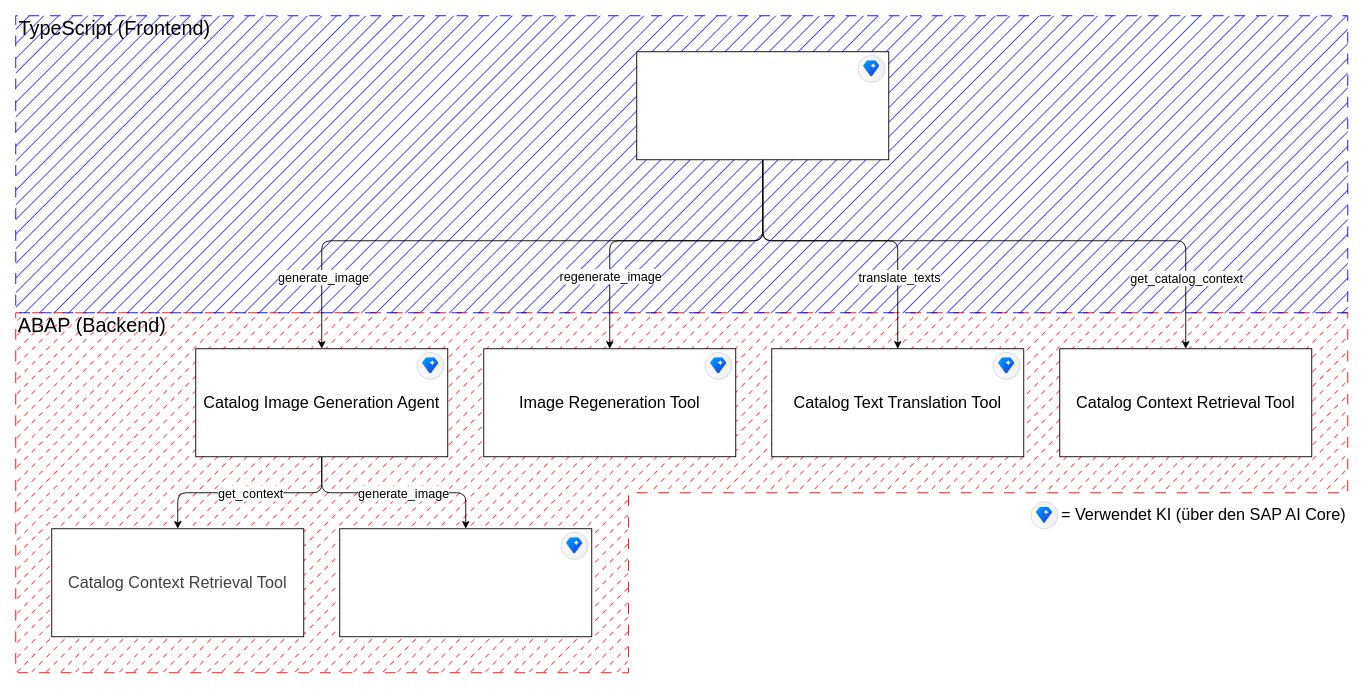
This 1364x689 diagram has some shape labels left out. Each missing label, with the box of its shape:
Content Manager Agent: (636, 51, 889, 160)
Image Generation Tool: (339, 528, 592, 637)
